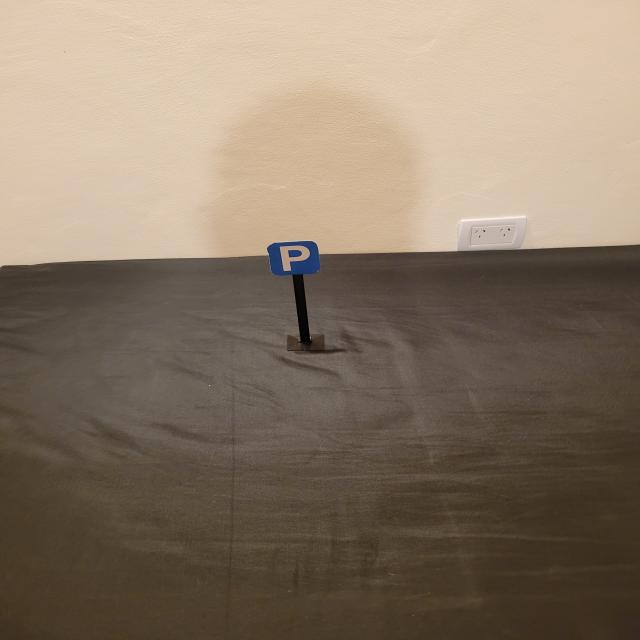parking: (267, 241, 320, 276)
